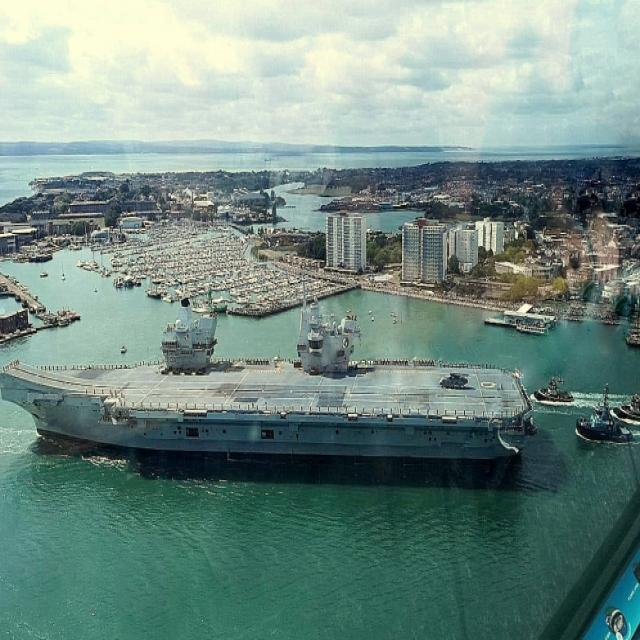Portanaves: (1, 277, 542, 481)
